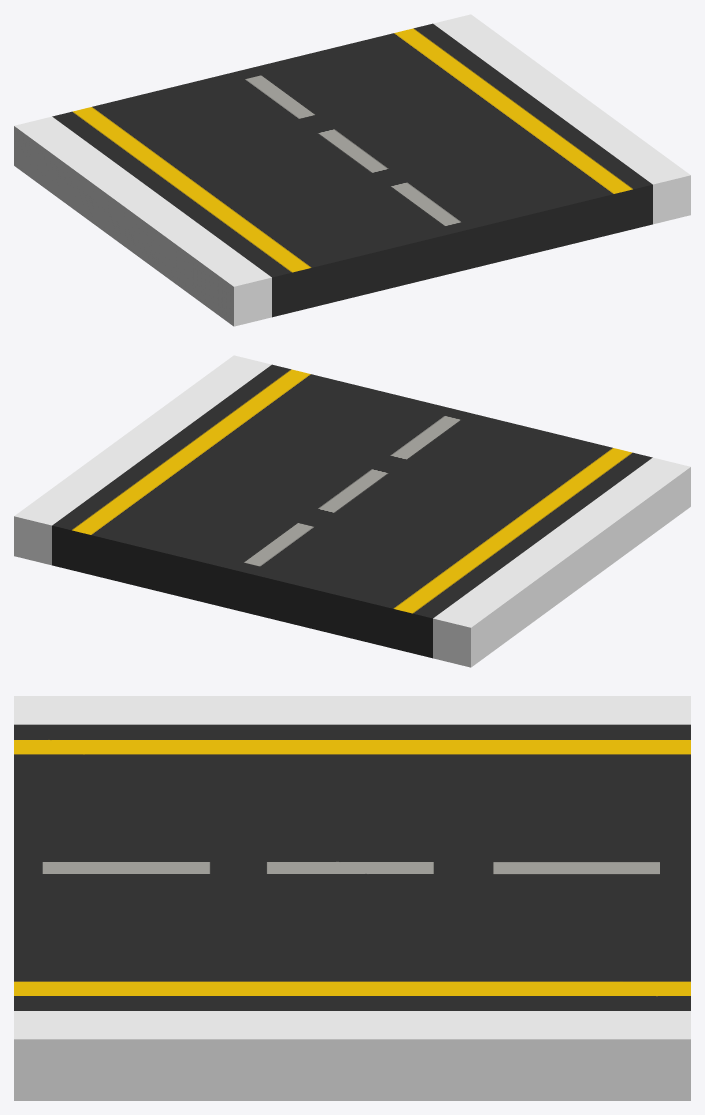
File: Track01.fbx
3 views of the same model, one above another, from view 1: azimuth 30°, elevation 25°; view 2: azimuth 150°, elevation 25°; view 3: azimuth 270°, elevation 25° (orthographic). The views are drawn at different scales.
Visible parts, largest first — view 1: Track1; view 2: Track1; view 3: Track1.
Part boxes in pixels (x1,y1,x2,y2): Track1: [14, 14, 690, 326]; Track1: [14, 355, 690, 667]; Track1: [14, 696, 690, 1100].
Bounding box in the file's own units: 1200 × 100 × 1000.
